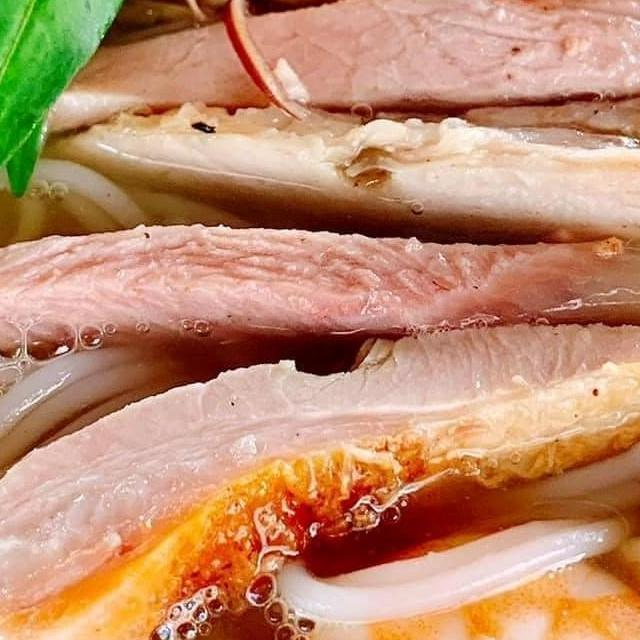bun: (0, 151, 352, 640)
bun hai san: (0, 0, 640, 640)
rau ram: (0, 0, 401, 349)
thit heo quay: (0, 290, 640, 640), (43, 98, 640, 291), (0, 202, 640, 363), (8, 0, 640, 135)
